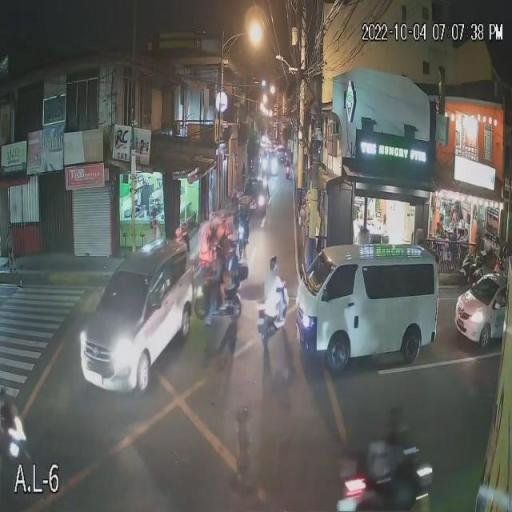helmet: (212, 245, 224, 264), (226, 242, 239, 257), (268, 257, 280, 272)
motorcycle: (198, 271, 244, 316), (255, 281, 290, 337)
rider: (208, 248, 223, 306), (268, 258, 281, 321), (225, 242, 239, 300)
